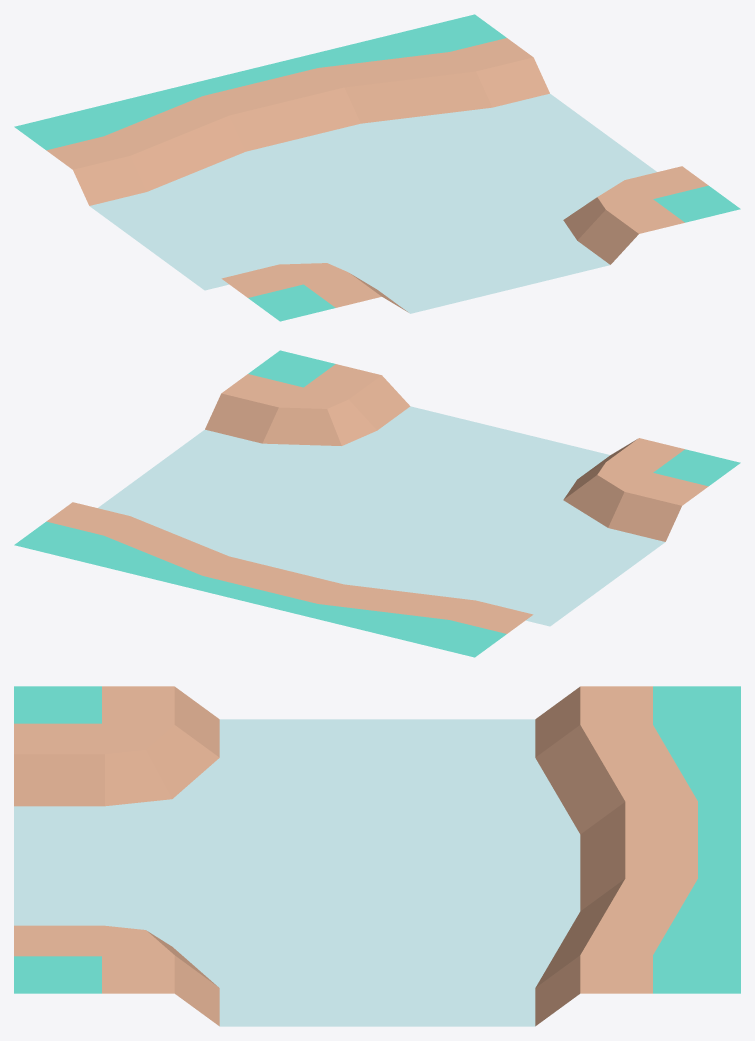
The model's file is ground_riverSplit.glb.
3 renders of one model, top to bottom at view 1: azimuth 30°, elevation 25°; view 2: azimuth 150°, elevation 25°; view 3: azimuth 270°, elevation 25°, orthographic. The views are drawn at different scales.
Parts seen in each view (by area): view 1: ground_riverSplit; view 2: ground_riverSplit; view 3: ground_riverSplit.
Part boxes in pixels (bbox=[...]): ground_riverSplit: bbox=[14, 14, 740, 321]; ground_riverSplit: bbox=[14, 350, 740, 657]; ground_riverSplit: bbox=[14, 686, 740, 1026].
Size of the model in its own units: 1 by 0.05 by 1.
